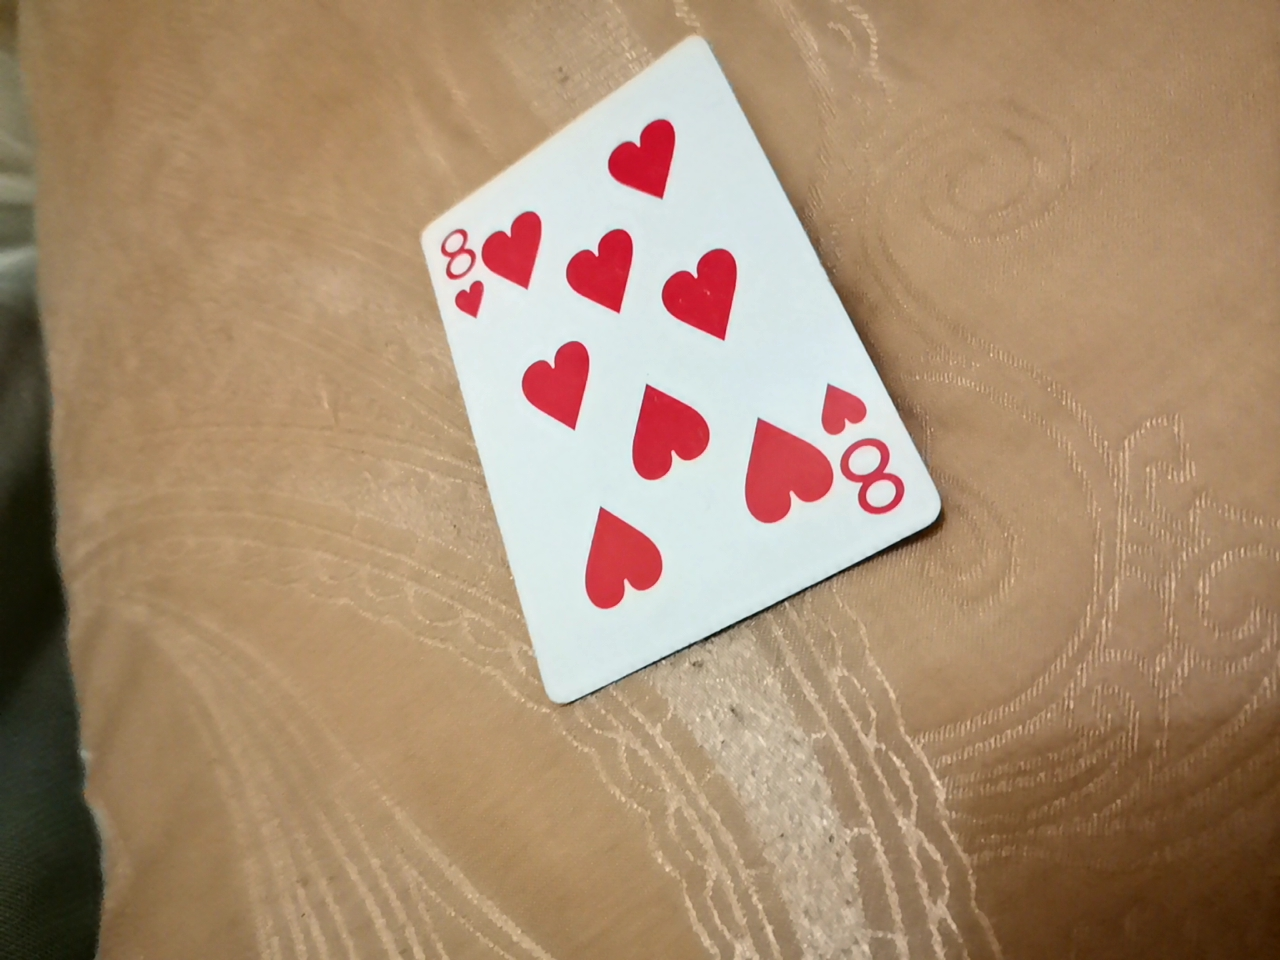hx 8: (411, 30, 931, 714)
